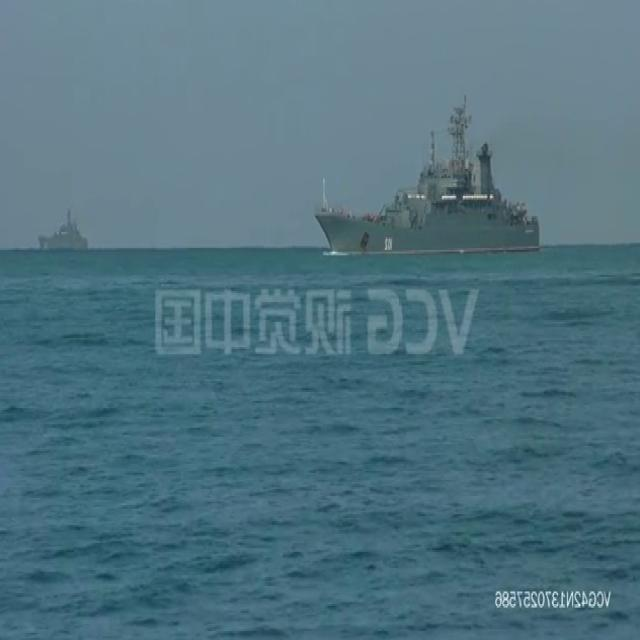navalvessels: (312, 91, 540, 253), (36, 204, 90, 250)
